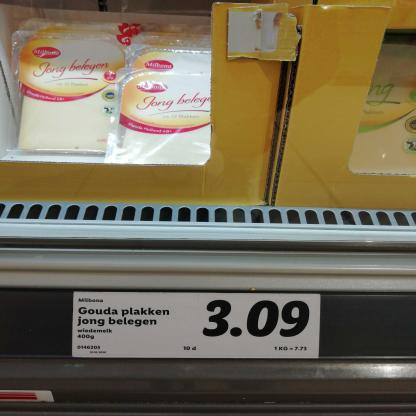prtg: (73, 293, 321, 360)
